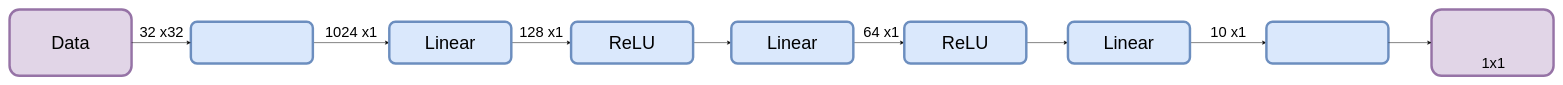
This 1563x85 diagram has some shape labels left out. The shapes that lost their labels are listed below. From the top down, each one's box as (x1, y1, x2, y2) in pixels, then its label:
(189, 20, 314, 64): Reshape
(1265, 20, 1389, 64): LogSoftMax
(1430, 8, 1555, 77): Output
